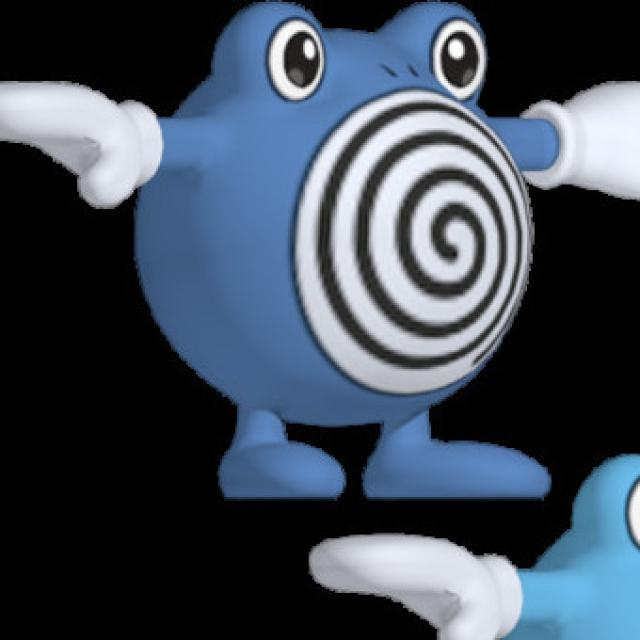Poliwhirl: (102, 2, 585, 498)
